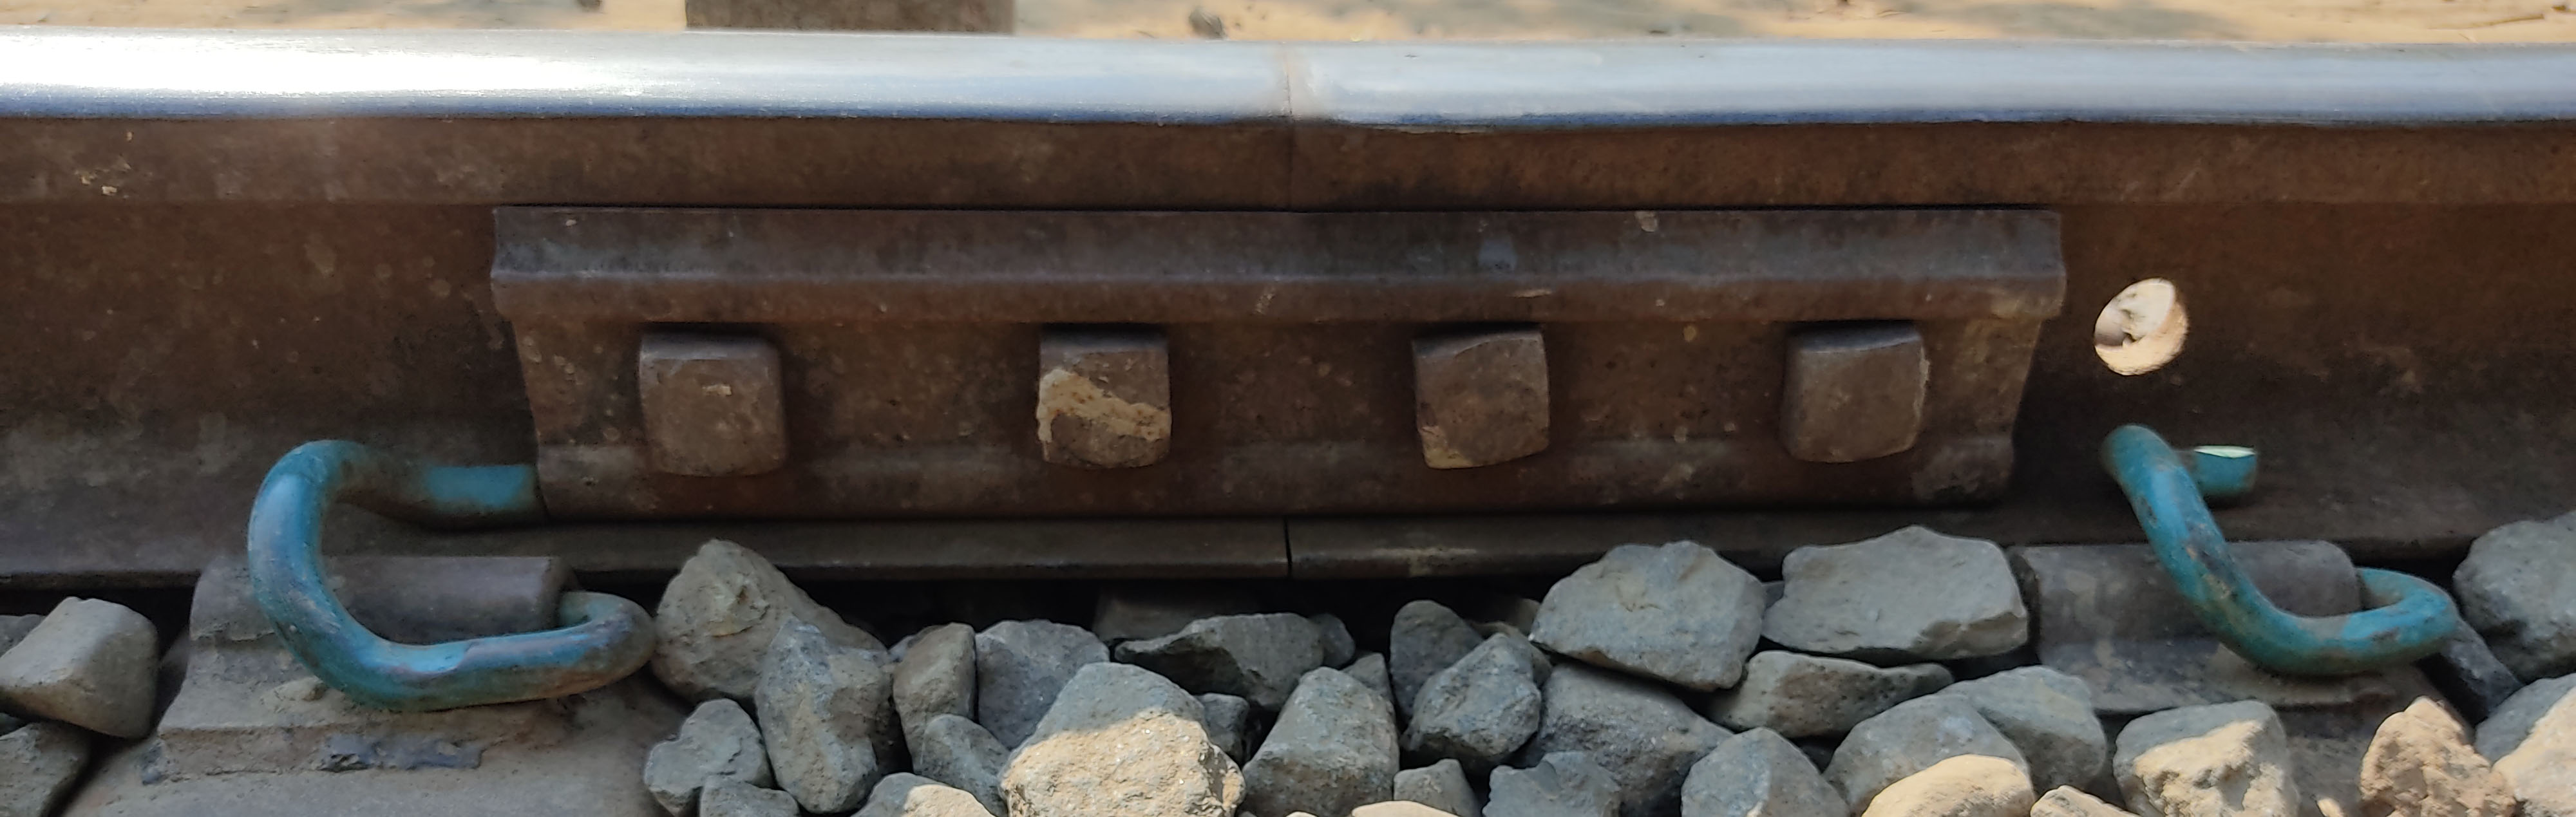error1: (168, 311, 678, 776), (2067, 360, 2481, 723)
